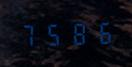eight: (66, 19, 89, 46)
five: (42, 20, 65, 47)
seven: (18, 21, 41, 47)
six: (90, 19, 113, 45)
